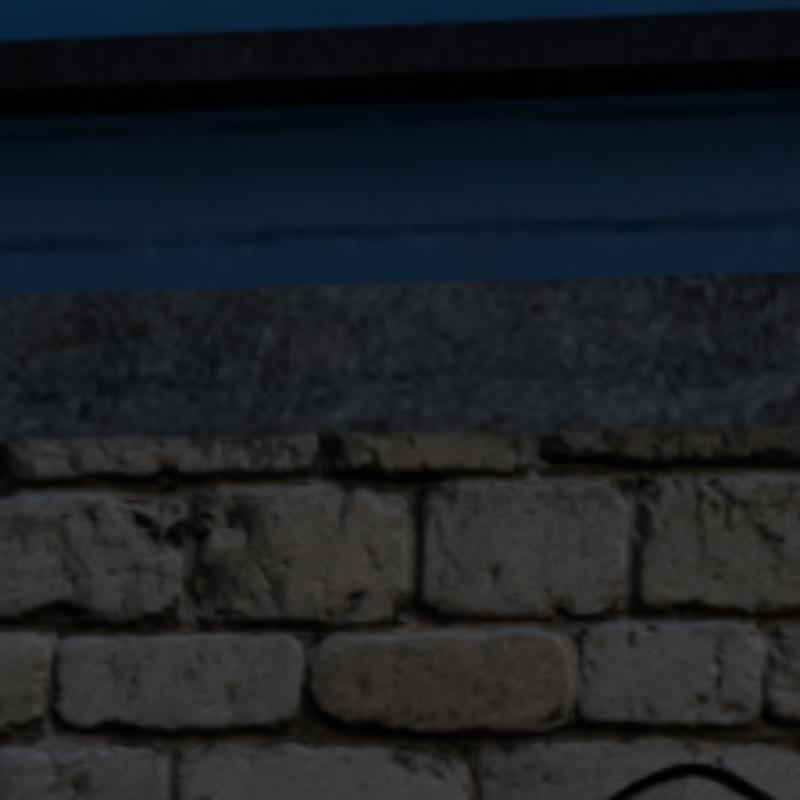crack: (611, 764, 768, 796)
